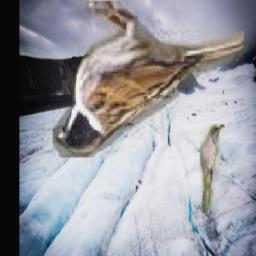Cuckoo: (201, 125, 226, 214)
Sparrow: (54, 1, 245, 158)
